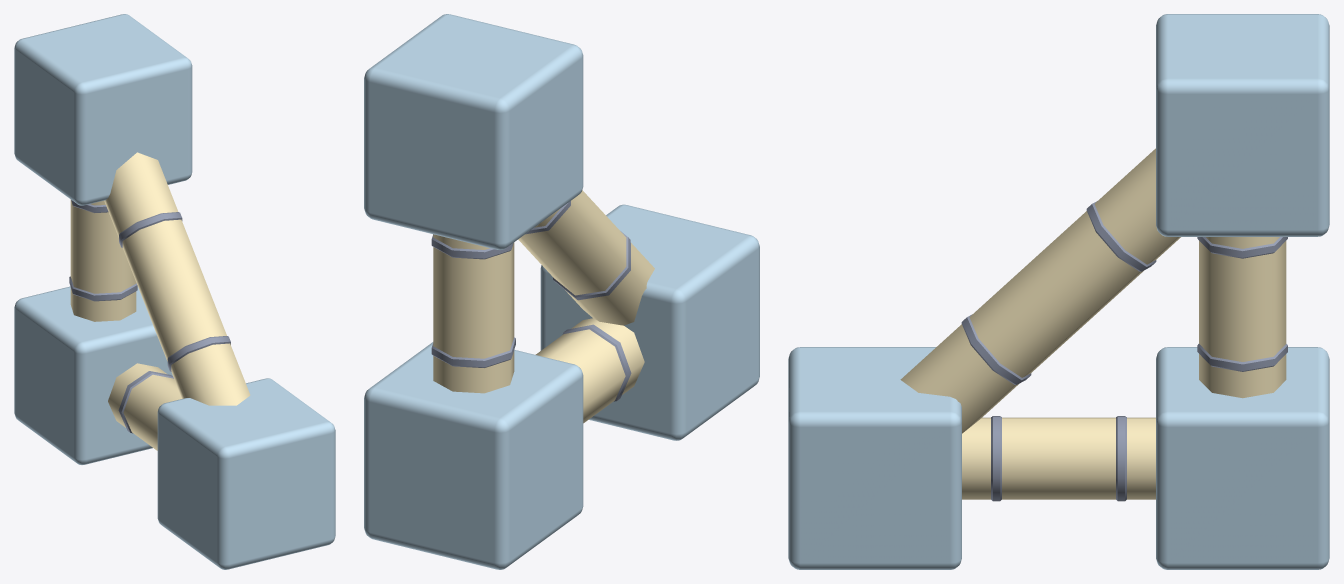
The model's file is R4C_STRUT_RAMP.glb.
The picture shows the model from 3 angles, left to right: view 1: azimuth 30°, elevation 25°; view 2: azimuth 150°, elevation 25°; view 3: azimuth 270°, elevation 25°; orthographic projection. The views are drawn at different scales.
Parts seen in each view (by area): view 1: R4C_STRUT_RAMP; view 2: R4C_STRUT_RAMP; view 3: R4C_STRUT_RAMP.
Part boxes in pixels (x1,y1,x2,y2): R4C_STRUT_RAMP: (14,14,335,569); R4C_STRUT_RAMP: (364,14,759,569); R4C_STRUT_RAMP: (788,14,1329,569).
Bounding box in the file's own units: 0.52 × 1.62 × 1.62.
